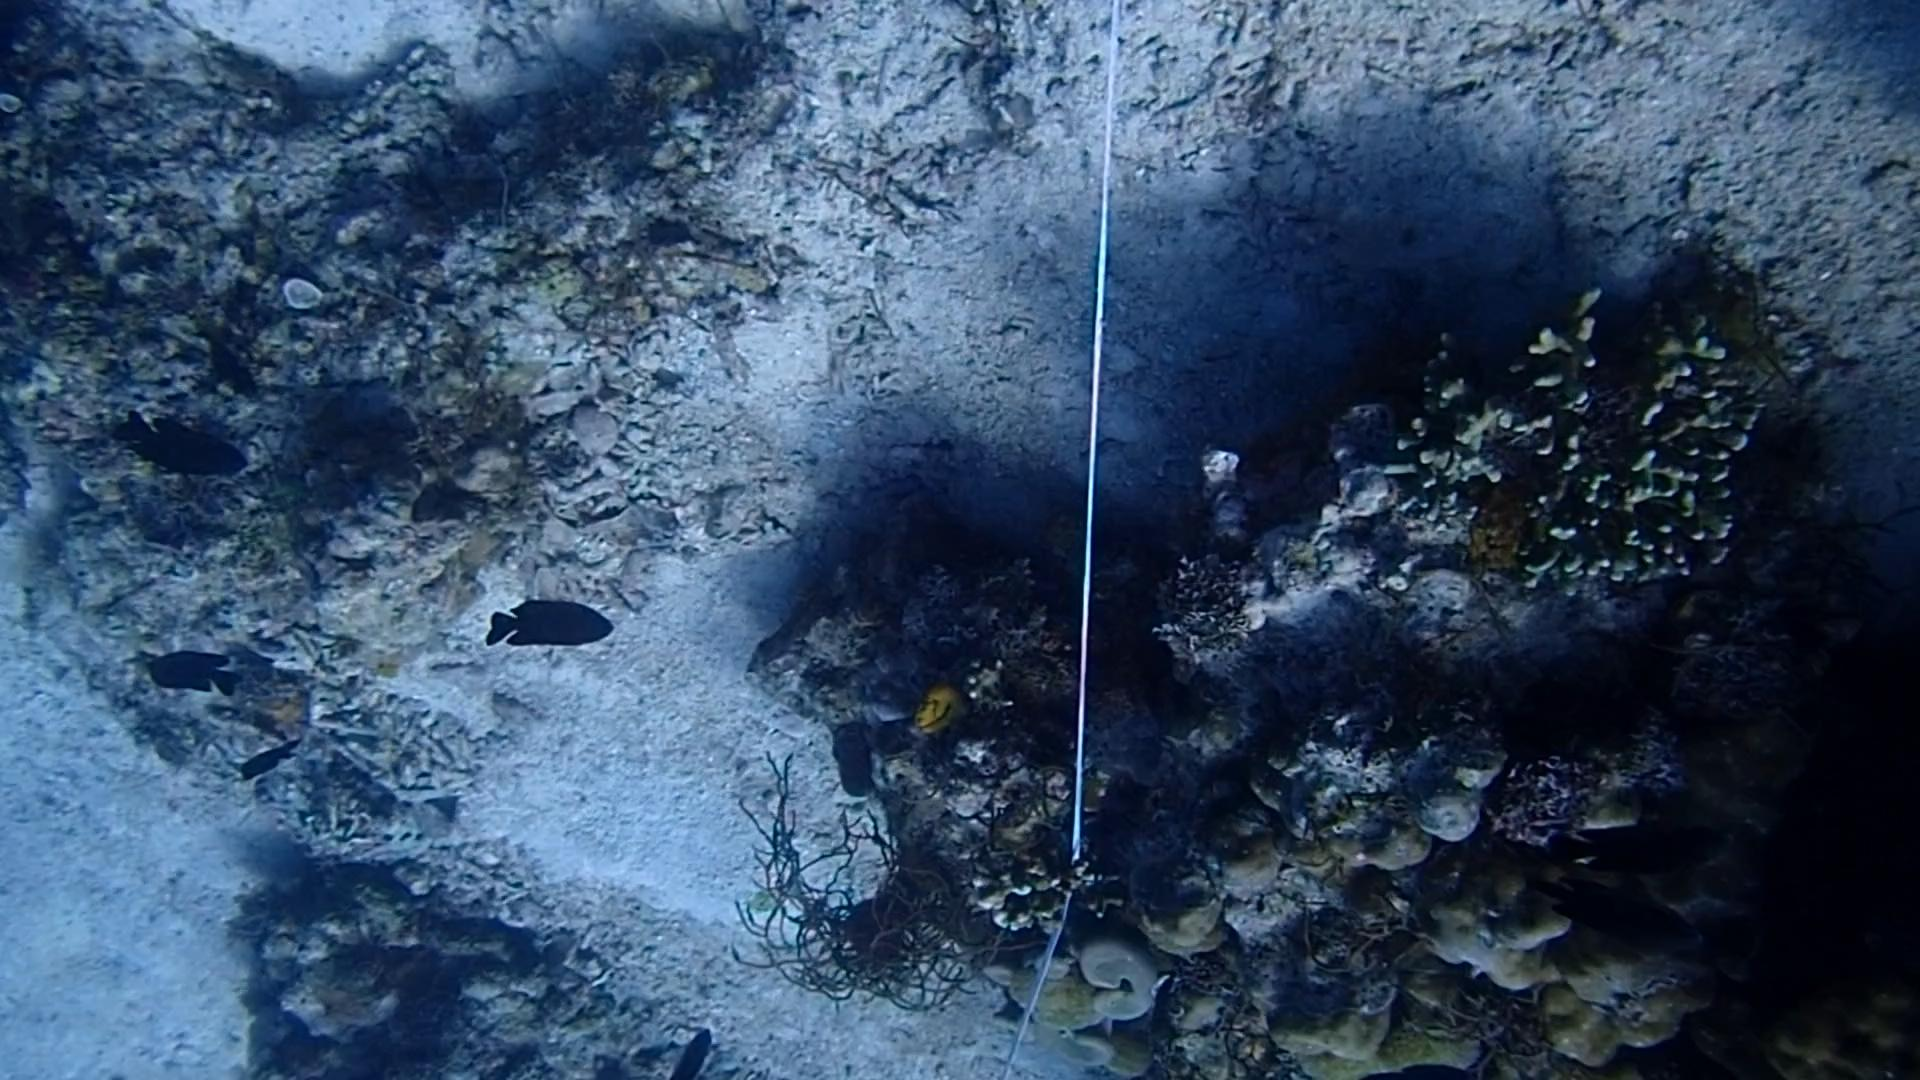Dark Fish: (109, 406, 249, 489), (475, 599, 625, 657), (136, 640, 255, 709), (193, 318, 266, 409), (224, 736, 322, 795)
